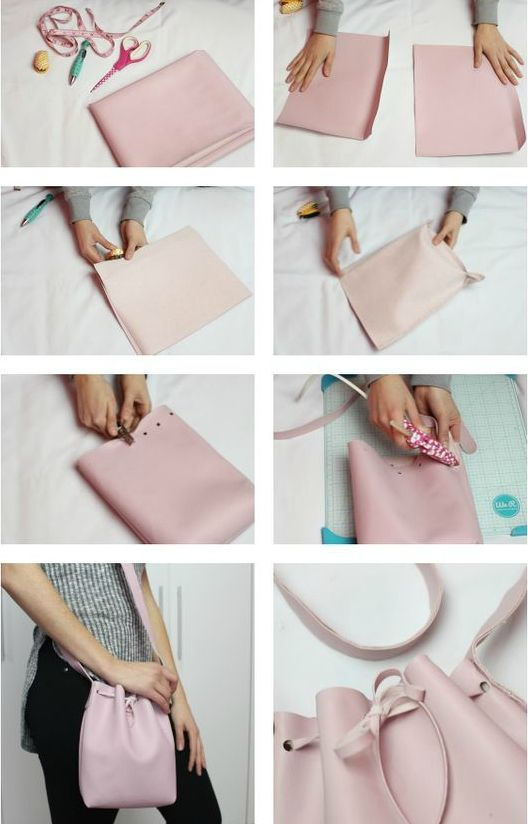cuero: (71, 31, 528, 824)
